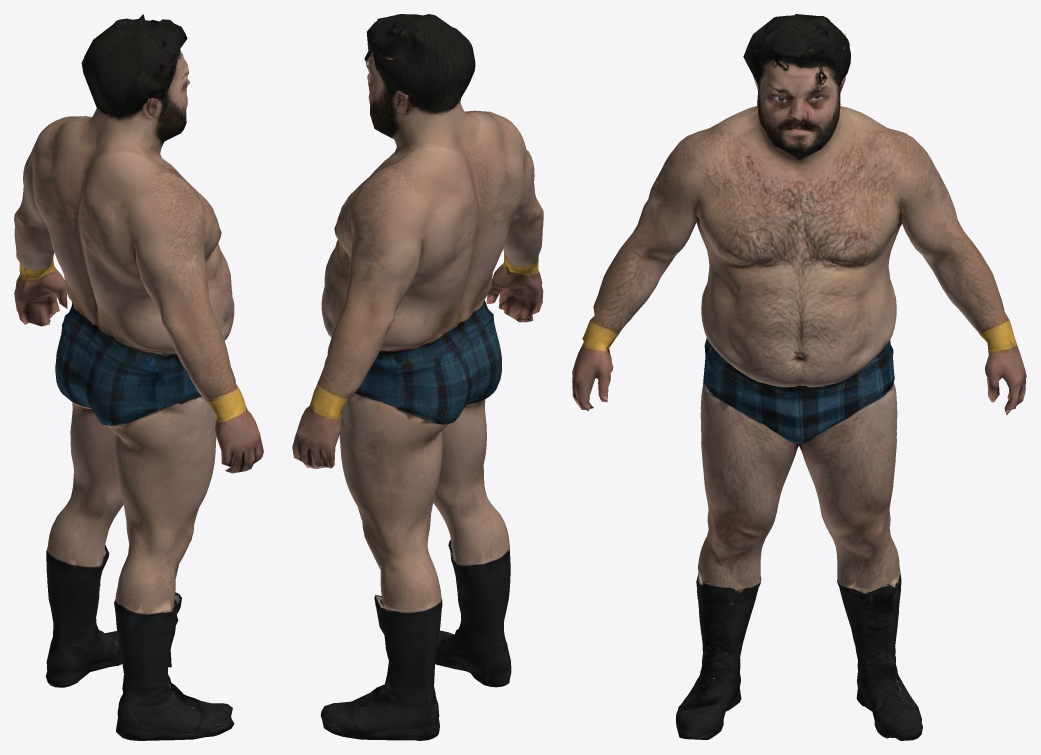
File: CODY_gear.glb
3 renders of one model, left to right at view 1: azimuth 30°, elevation 25°; view 2: azimuth 150°, elevation 25°; view 3: azimuth 270°, elevation 25°, orthographic. The views are drawn at different scales.
Visible parts, largest first — view 1: tripo_node_d82d220f-0bca-420e-acd2-b11a50a30bc9; view 2: tripo_node_d82d220f-0bca-420e-acd2-b11a50a30bc9; view 3: tripo_node_d82d220f-0bca-420e-acd2-b11a50a30bc9.
Part boxes in pixels (x1,y1,x2,y2): tripo_node_d82d220f-0bca-420e-acd2-b11a50a30bc9: [14, 14, 263, 740]; tripo_node_d82d220f-0bca-420e-acd2-b11a50a30bc9: [292, 14, 543, 740]; tripo_node_d82d220f-0bca-420e-acd2-b11a50a30bc9: [572, 14, 1026, 740].
Size of the model in its own units: 0.2304 by 0.975 by 0.5712.
1 material, 1 textured.
